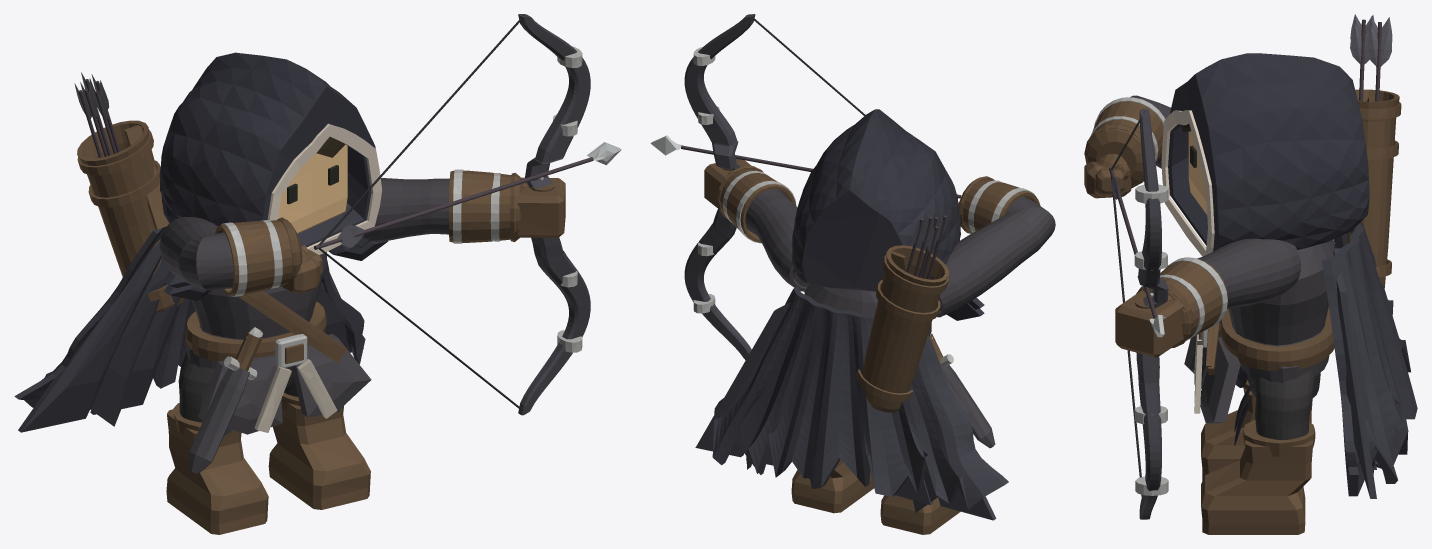
Rendered from kingsrangerguard.glb.
The picture shows the model from 3 angles, left to right: view 1: azimuth 30°, elevation 25°; view 2: azimuth 150°, elevation 25°; view 3: azimuth 270°, elevation 25°; orthographic projection. The views are drawn at different scales.
Visible parts, largest first — view 1: Hood — peaked source fold facets and closed fitted inner cav, LEFT boot — broad source angular toe ankle and fitted shaft, RIGHT boot — broad source angular toe ankle and fitted shaft, LEFT extended bow arm hand — one connected source glove wris, RIGHT broad hanging cape crease 3, RIGHT rear quiver — substantial hollow leather cup with actu, RIGHT drawn arrow arm hand — one connected source glove wris, Cape — attached substantial torn folded cloth, Torso — clothed rib cage abdomen and fitted shoulder transit, RIGHT drawn arrow arm — full outer sleeve with open fitted w, LEFT extended bow arm — full outer sleeve with open fitted w, Upper bow limb — shooting-plane broad angular taper and real (+19 smaller); view 2: Cape — attached substantial torn folded cloth, Hood — peaked source fold facets and closed fitted inner cav, RIGHT rear quiver — substantial hollow leather cup with actu, RIGHT drawn arrow arm — full outer sleeve with open fitted w, Upper bow limb — shooting-plane broad angular taper and real, LEFT extended bow arm hand — one connected source glove wris, LEFT extended bow arm — full outer sleeve with open fitted w, Lower bow limb — shooting-plane broad angular taper and real, RIGHT drawn arrow arm hand — one connected source glove wris, LEFT boot — broad source angular toe ankle and fitted shaft, RIGHT boot — broad source angular toe ankle and fitted shaft, LEFT broad hanging cape crease 3 (+9 smaller); view 3: Hood — peaked source fold facets and closed fitted inner cav, Cape — attached substantial torn folded cloth, LEFT boot — broad source angular toe ankle and fitted shaft, LEFT extended bow arm hand — one connected source glove wris, Torso — clothed rib cage abdomen and fitted shoulder transit, RIGHT drawn arrow arm hand — one connected source glove wris, LEFT extended bow arm — full outer sleeve with open fitted w, RIGHT rear quiver — substantial hollow leather cup with actu, Ranger — connected pelvis thighs knees and calves under clot, Belt — fitted broad leather wrap, Upper bow limb — shooting-plane broad angular taper and real, Lower bow limb — shooting-plane broad angular taper and real (+13 smaller).
Part boxes in pixels (<box>): Hood — peaked source fold facets and closed fitted inner cav: <box>159,52,375,247</box>; LEFT boot — broad source angular toe ankle and fitted shaft: <box>268,402,370,509</box>; RIGHT boot — broad source angular toe ankle and fitted shaft: <box>166,409,268,534</box>; LEFT extended bow arm hand — one connected source glove wris: <box>449,169,565,243</box>; RIGHT broad hanging cape crease 3: <box>18,241,161,432</box>; RIGHT rear quiver — substantial hollow leather cup with actu: <box>77,120,184,312</box>; RIGHT drawn arrow arm hand — one connected source glove wris: <box>215,217,322,296</box>; Cape — attached substantial torn folded cloth: <box>14,226,365,407</box>; Torso — clothed rib cage abdomen and fitted shoulder transit: <box>186,252,326,369</box>; RIGHT drawn arrow arm — full outer sleeve with open fitted w: <box>159,217,233,290</box>; LEFT extended bow arm — full outer sleeve with open fitted w: <box>363,178,449,241</box>; Upper bow limb — shooting-plane broad angular taper and real: <box>518,14,590,191</box>; Cape — attached substantial torn folded cloth: <box>712,286,1008,509</box>; Hood — peaked source fold facets and closed fitted inner cav: <box>792,109,960,291</box>; RIGHT rear quiver — substantial hollow leather cup with actu: <box>862,245,948,412</box>; RIGHT drawn arrow arm — full outer sleeve with open fitted w: <box>937,196,1055,317</box>; Upper bow limb — shooting-plane broad angular taper and real: <box>684,14,755,170</box>; LEFT extended bow arm hand — one connected source glove wris: <box>704,159,796,243</box>; LEFT extended bow arm — full outer sleeve with open fitted w: <box>745,189,806,291</box>; Lower bow limb — shooting-plane broad angular taper and real: <box>684,209,751,359</box>; RIGHT drawn arrow arm hand — one connected source glove wris: <box>958,176,1040,233</box>; LEFT boot — broad source angular toe ankle and fitted shaft: <box>791,459,874,513</box>; RIGHT boot — broad source angular toe ankle and fitted shaft: <box>880,495,960,534</box>; LEFT broad hanging cape crease 3: <box>695,303,790,457</box>; Hood — peaked source fold facets and closed fitted inner cav: <box>1168,53,1369,251</box>; Cape — attached substantial torn folded cloth: <box>1322,221,1417,496</box>; LEFT boot — broad source angular toe ankle and fitted shaft: <box>1201,440,1312,534</box>; LEFT extended bow arm hand — one connected source glove wris: <box>1115,257,1227,357</box>; Torso — clothed rib cage abdomen and fitted shoulder transit: <box>1229,239,1334,383</box>; RIGHT drawn arrow arm hand — one connected source glove wris: <box>1084,97,1165,198</box>; LEFT extended bow arm — full outer sleeve with open fitted w: <box>1198,238,1300,308</box>; RIGHT rear quiver — substantial hollow leather cup with actu: <box>1347,89,1399,288</box>; Ranger — connected pelvis thighs knees and calves under clot: <box>1247,370,1320,439</box>; Belt — fitted broad leather wrap: <box>1220,306,1334,371</box>; Upper bow limb — shooting-plane broad angular taper and real: <box>1137,108,1168,308</box>; Lower bow limb — shooting-plane broad angular taper and real: <box>1136,353,1161,519</box>.
Size of the model in its own units: 1.26 by 1.12 by 0.699.
